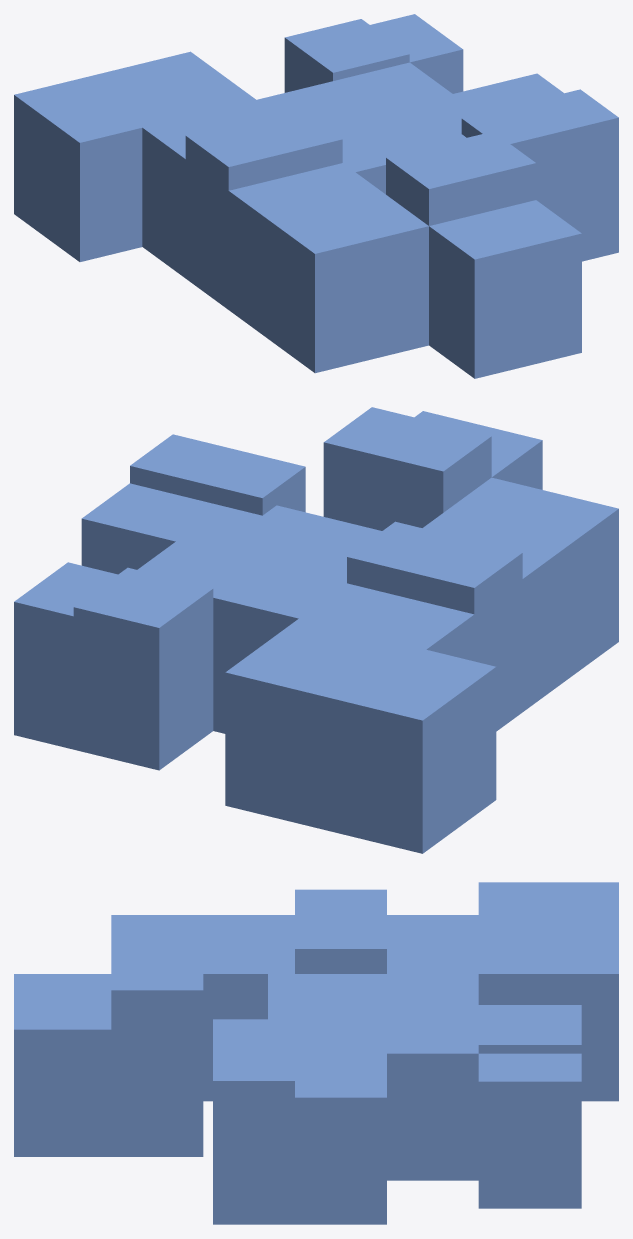
File: bulut2.fbx
3 renders of one model, top to bottom at view 1: azimuth 30°, elevation 25°; view 2: azimuth 150°, elevation 25°; view 3: azimuth 270°, elevation 25°, orthographic. The views are drawn at different scales.
Parts seen in each view (by area): view 1: Cube; view 2: Cube; view 3: Cube.
Part boxes in pixels (x1=…): Cube: x1=14, y1=14, x2=618, y2=378; Cube: x1=14, y1=407, x2=618, y2=853; Cube: x1=14, y1=882, x2=618, y2=1224.
Size of the model in its own units: 727 by 262 by 863.
